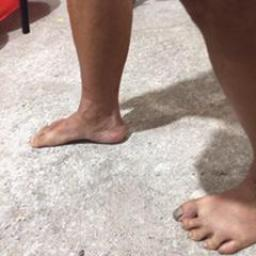Medial View -Right Foot-: (22, 79, 136, 164)
